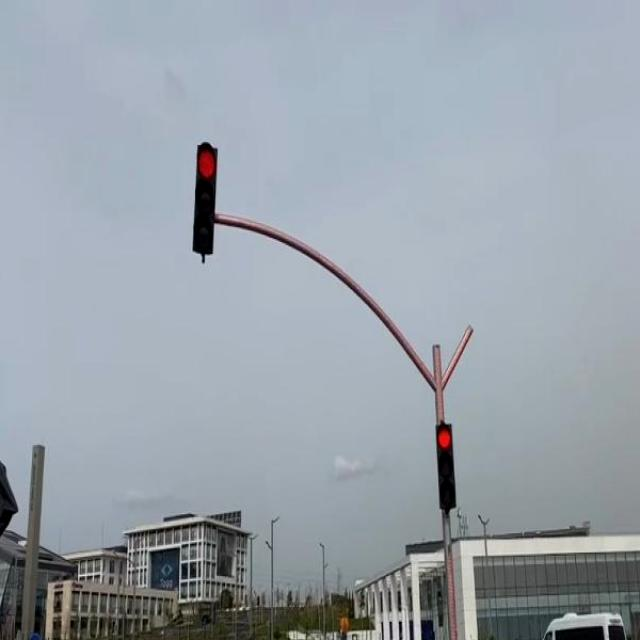kirmizi: (193, 142, 217, 263), (436, 420, 456, 514)
